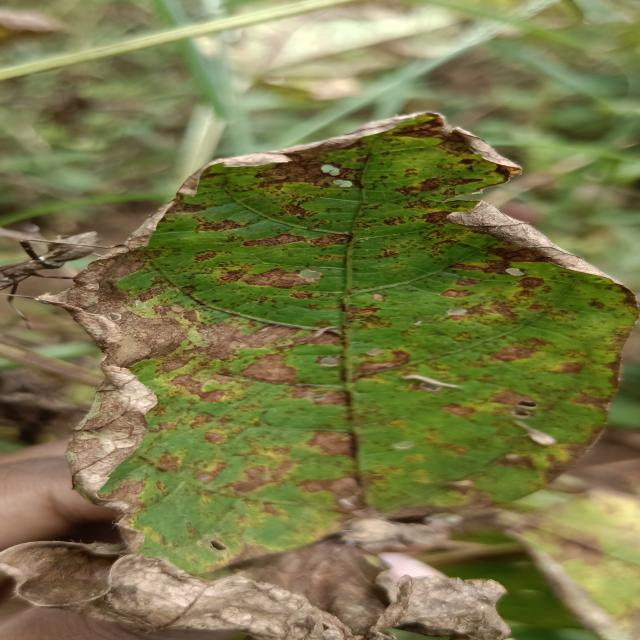Black gram_leaf spot: (18, 105, 640, 640)
